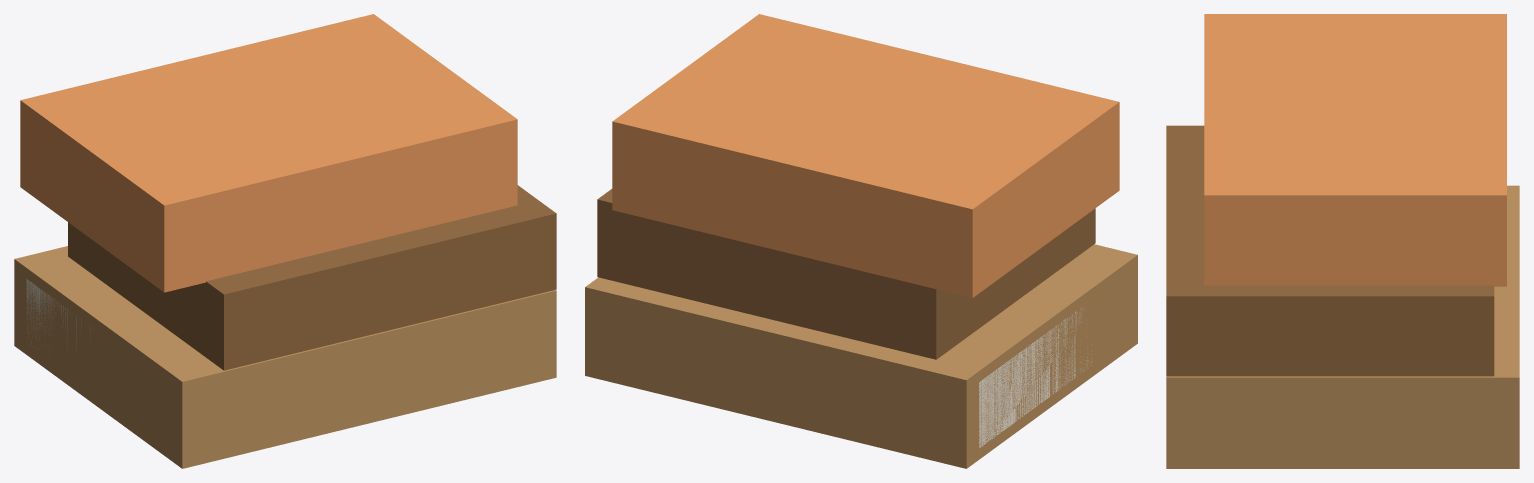
Rendered from storybook.glb.
3 views of the same model, side by side, from view 1: azimuth 30°, elevation 25°; view 2: azimuth 150°, elevation 25°; view 3: azimuth 270°, elevation 25° (orthographic). The views are drawn at different scales.
Visible parts, largest first — view 1: storybook; view 2: storybook; view 3: storybook.
Boxes of the visible parts, <box> form: storybook: <box>14,14,556,468</box>; storybook: <box>585,14,1137,468</box>; storybook: <box>1166,14,1519,468</box>.
Bounding box in the file's own units: 18 × 11.5 × 14.
